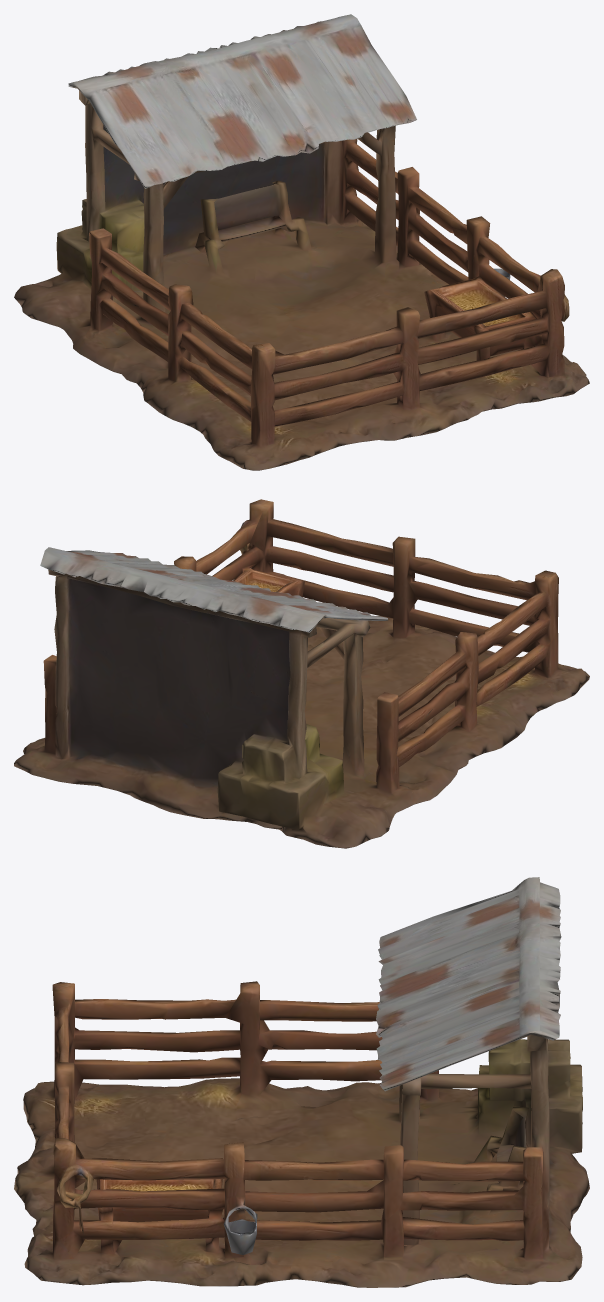
The model's file is cattle_market_main.glb.
3 renders of one model, top to bottom at view 1: azimuth 30°, elevation 25°; view 2: azimuth 150°, elevation 25°; view 3: azimuth 270°, elevation 25°, orthographic. The views are drawn at different scales.
Parts seen in each view (by area): view 1: tripo_node_3b3fab04-ec97-41e7-9e14-ec76c3e9e462; view 2: tripo_node_3b3fab04-ec97-41e7-9e14-ec76c3e9e462; view 3: tripo_node_3b3fab04-ec97-41e7-9e14-ec76c3e9e462.
Part boxes in pixels (bbox=[...]): tripo_node_3b3fab04-ec97-41e7-9e14-ec76c3e9e462: bbox=[14, 14, 589, 470]; tripo_node_3b3fab04-ec97-41e7-9e14-ec76c3e9e462: bbox=[14, 499, 589, 848]; tripo_node_3b3fab04-ec97-41e7-9e14-ec76c3e9e462: bbox=[14, 877, 589, 1287].
Bounding box in the file's own units: 0.8329 × 0.4605 × 1.
Materials: 1 (1 with a texture image).
